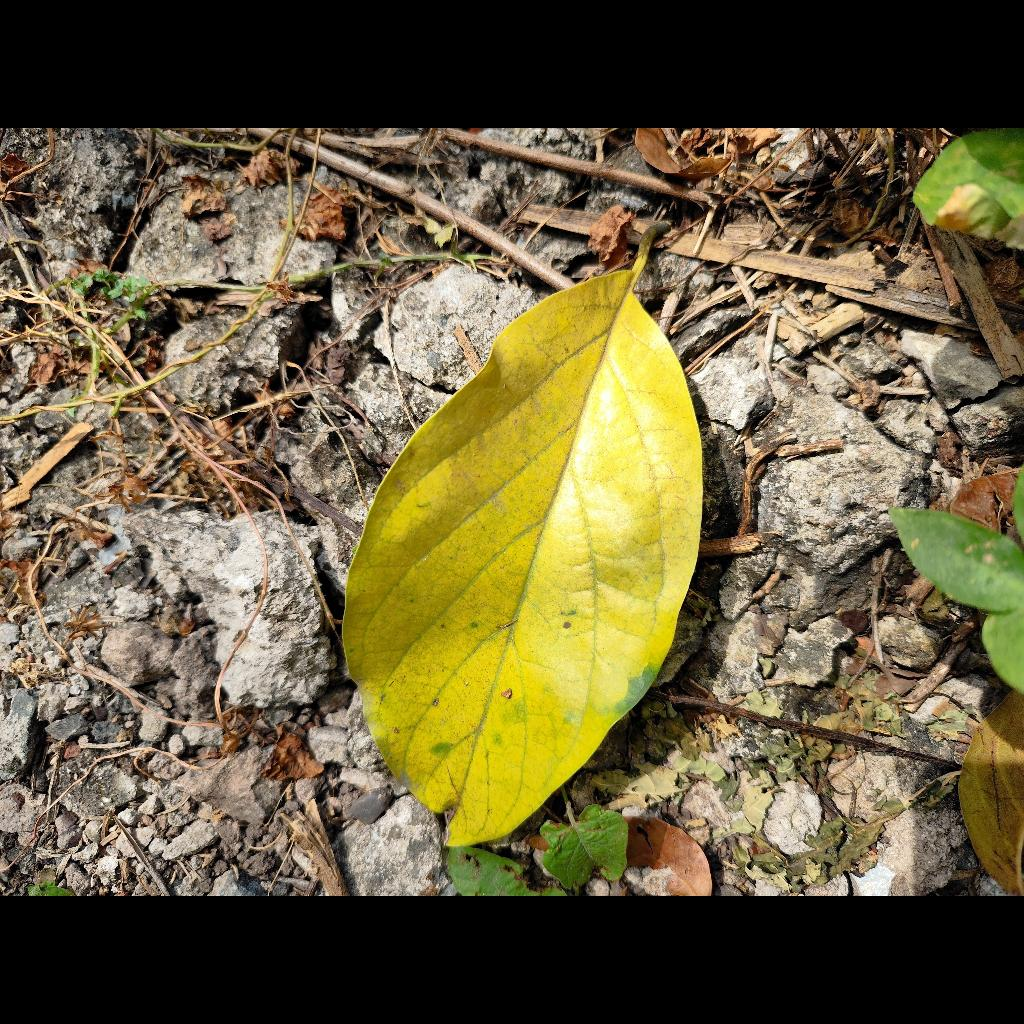nutrient_deficiency: (343, 270, 701, 845)
